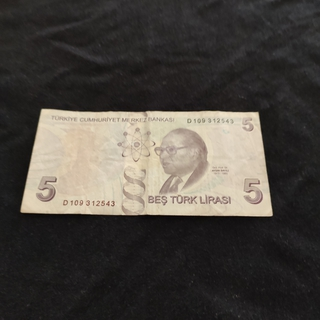5TLBack: (20, 107, 274, 217)
